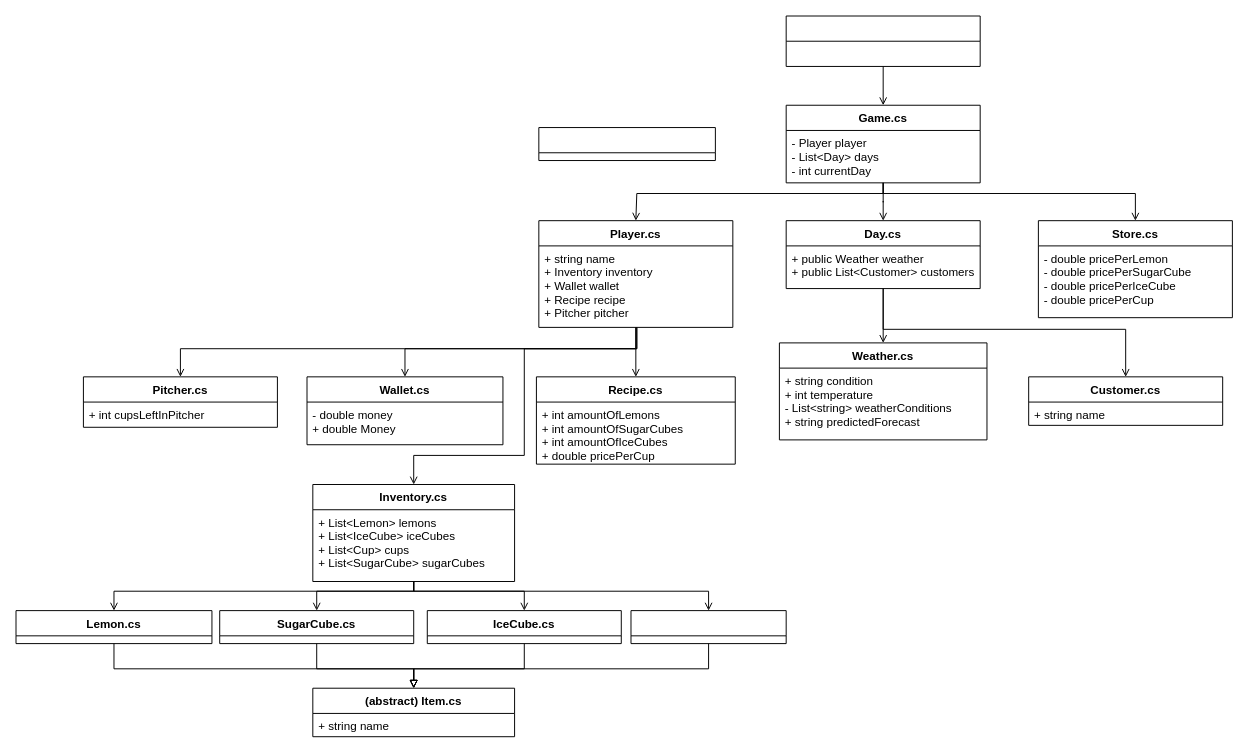
Some shapes in this 1248 by 753 pixel diagram are drawn without their labels. Each missing label, with the centre of its shape:
"(static) UserInterface" belongs at (x=626, y=144).
"Cup.cs" belongs at (x=708, y=627).
"Program.cs" belongs at (x=882, y=40).
